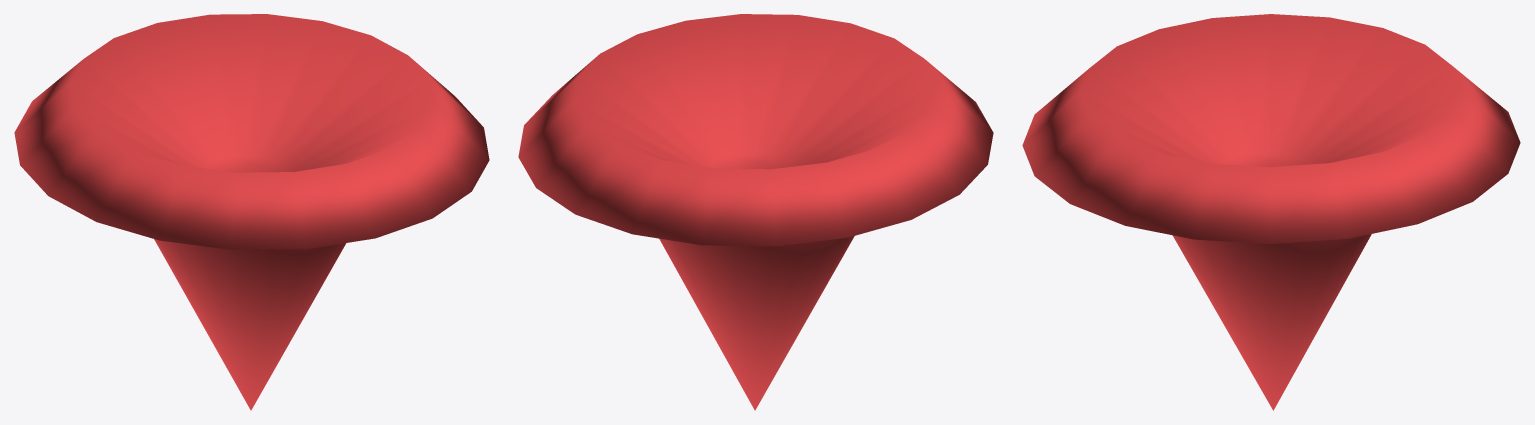
The model's file is flower-ver1.glb.
The picture shows the model from 3 angles, left to right: view 1: azimuth 30°, elevation 25°; view 2: azimuth 150°, elevation 25°; view 3: azimuth 270°, elevation 25°; orthographic projection.
Visible parts, largest first — view 1: flowermodel-ver1; view 2: flowermodel-ver1; view 3: flowermodel-ver1.
Boxes of the visible parts, bbox=[...] form: flowermodel-ver1: bbox=[14, 14, 489, 410]; flowermodel-ver1: bbox=[518, 14, 993, 410]; flowermodel-ver1: bbox=[1022, 14, 1520, 410].
Bounding box in the file's own units: 3.72 × 2.79 × 3.91.
